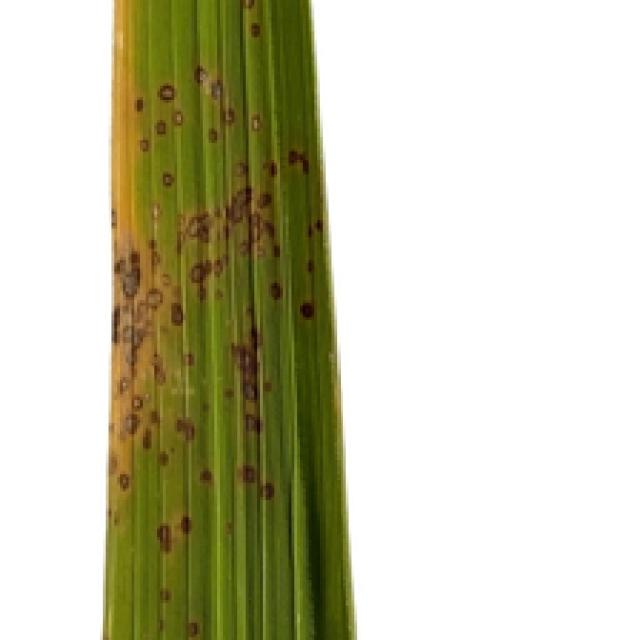Rice___Brown_Spot: (103, 0, 357, 637)
